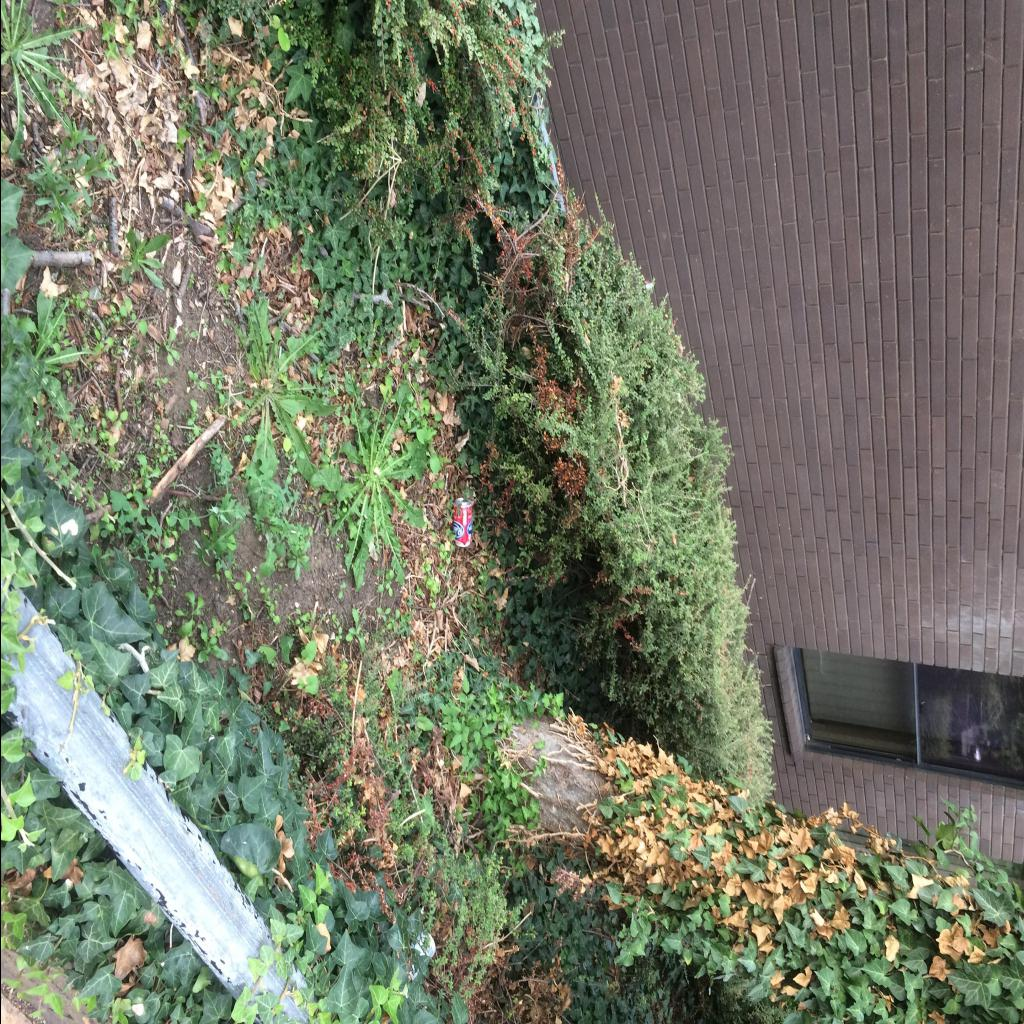Drink can: (452, 498, 471, 548)
